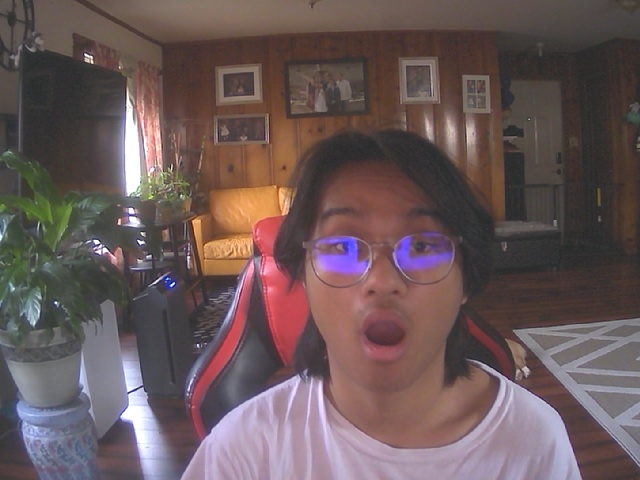fear: (295, 142, 480, 396)
